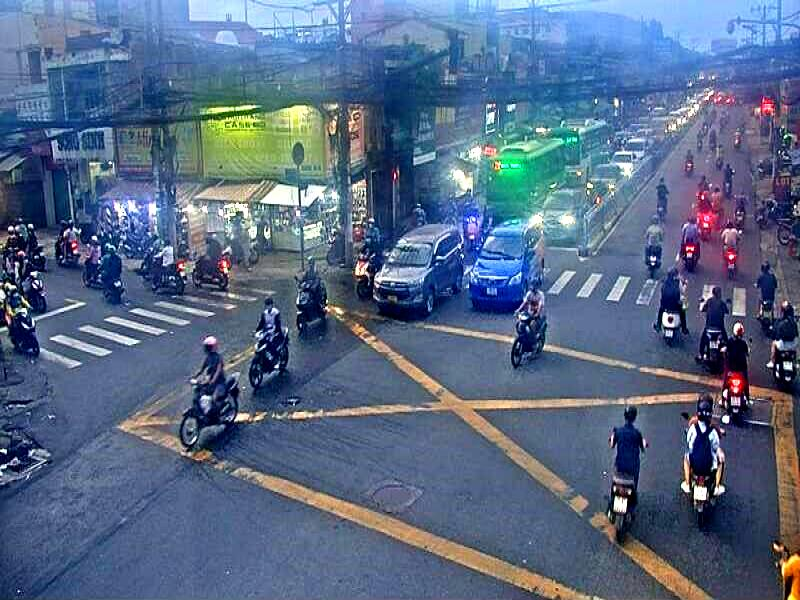bus: (480, 141, 561, 215)
car: (366, 224, 463, 318), (466, 220, 544, 298), (537, 177, 582, 250)
motorcycle: (165, 372, 236, 446), (594, 470, 642, 536), (251, 330, 295, 386), (8, 310, 54, 363), (287, 276, 331, 331), (688, 468, 723, 522), (509, 313, 547, 361), (144, 266, 194, 299), (346, 247, 377, 298), (720, 375, 749, 418), (694, 333, 734, 364), (194, 262, 235, 291), (647, 306, 688, 331), (100, 284, 126, 308)
